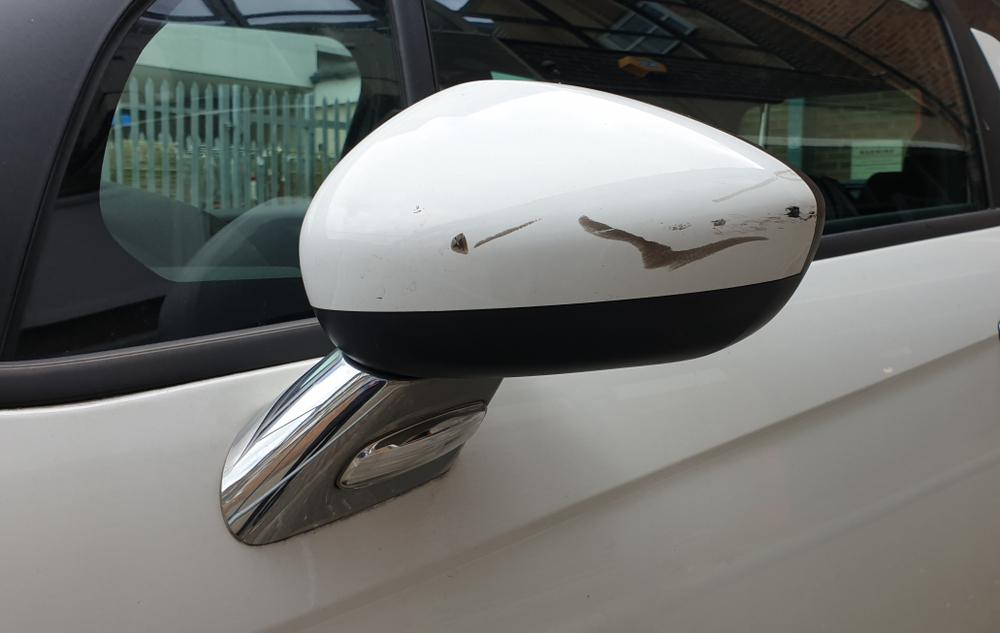scratch: (447, 198, 811, 276)
